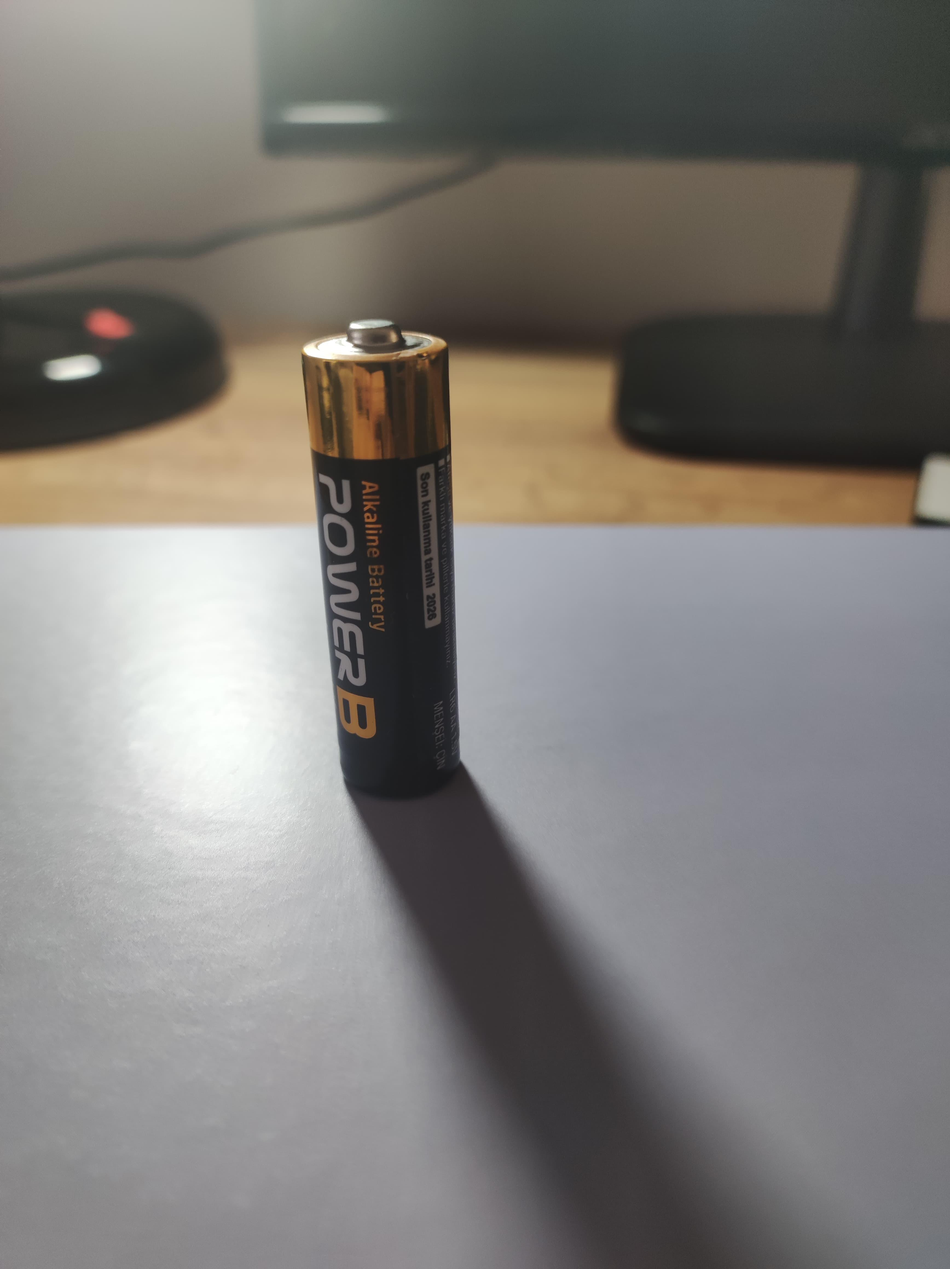AA: (299, 317, 461, 798)
